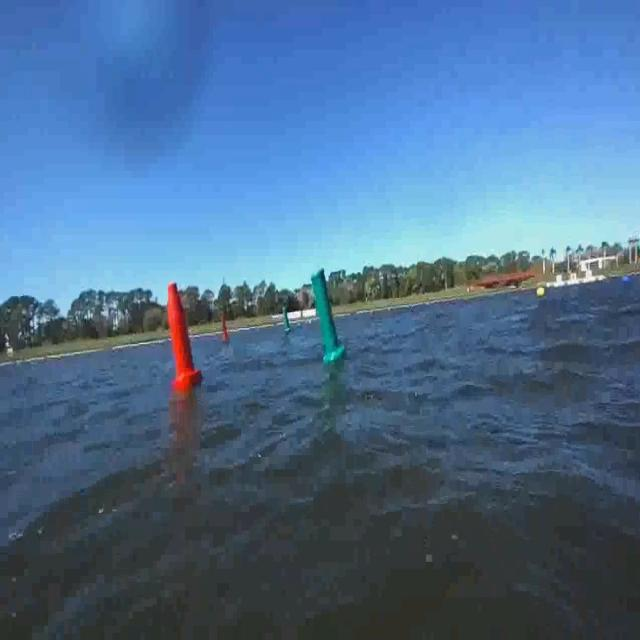blue-buoy: (622, 274, 632, 289)
green-column-buoy: (309, 268, 347, 363), (283, 306, 292, 332)
red-column-buoy: (166, 282, 203, 392), (219, 312, 230, 342)
yellow-buoy: (536, 284, 546, 300)
